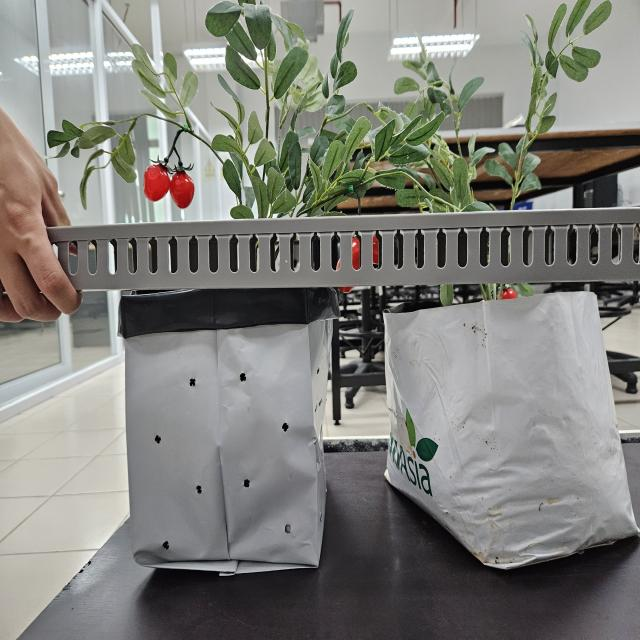Obstacle: (46, 208, 640, 292)
Soilbag: (383, 292, 640, 573), (121, 323, 326, 577)
plant: (45, 0, 441, 295), (386, 3, 619, 305)
